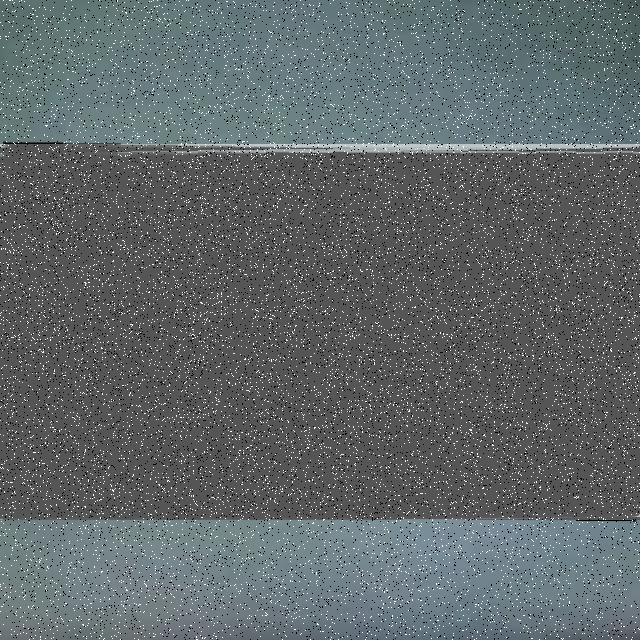lima puluh ribu rupiah: (0, 144, 640, 520)
